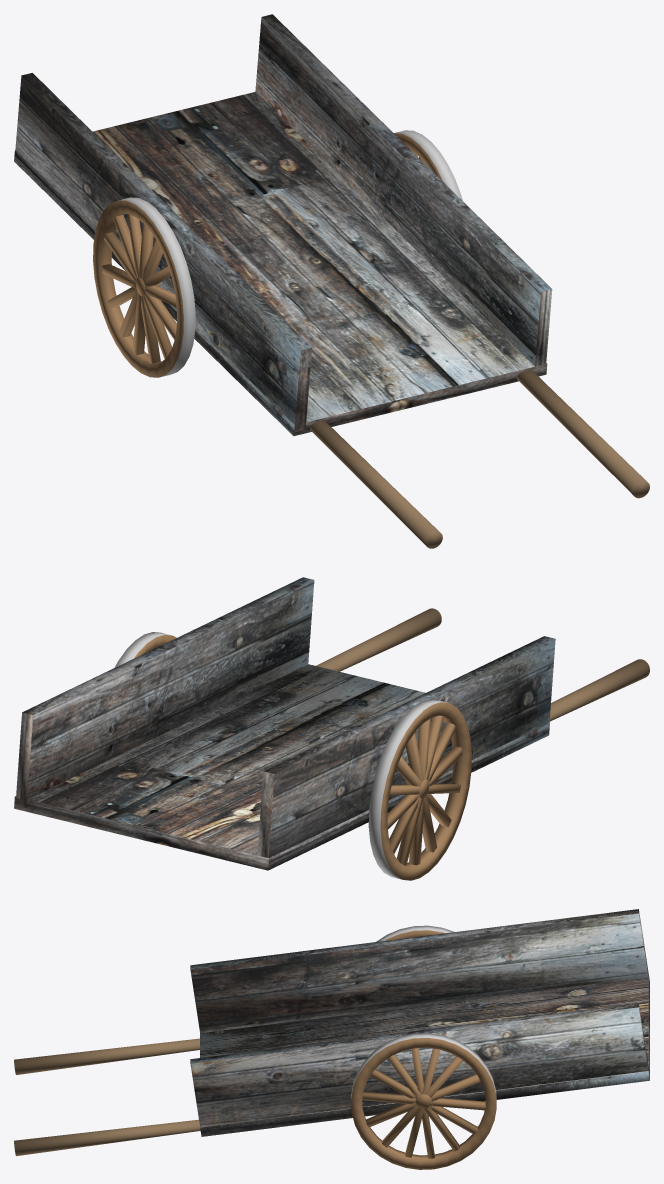
Rendered from kärry1.fbx.
3 renders of one model, top to bottom at view 1: azimuth 30°, elevation 25°; view 2: azimuth 150°, elevation 25°; view 3: azimuth 270°, elevation 25°, orthographic. The views are drawn at different scales.
Parts seen in each view (by area): view 1: Cylinder_001; view 2: Cylinder_001; view 3: Cylinder_001.
Boxes of the visible parts, <box> form: Cylinder_001: <box>14,14,649,548</box>; Cylinder_001: <box>14,577,649,880</box>; Cylinder_001: <box>14,909,649,1169</box>.
Bounding box in the file's own units: 4.68 × 3.04 × 11.21.
